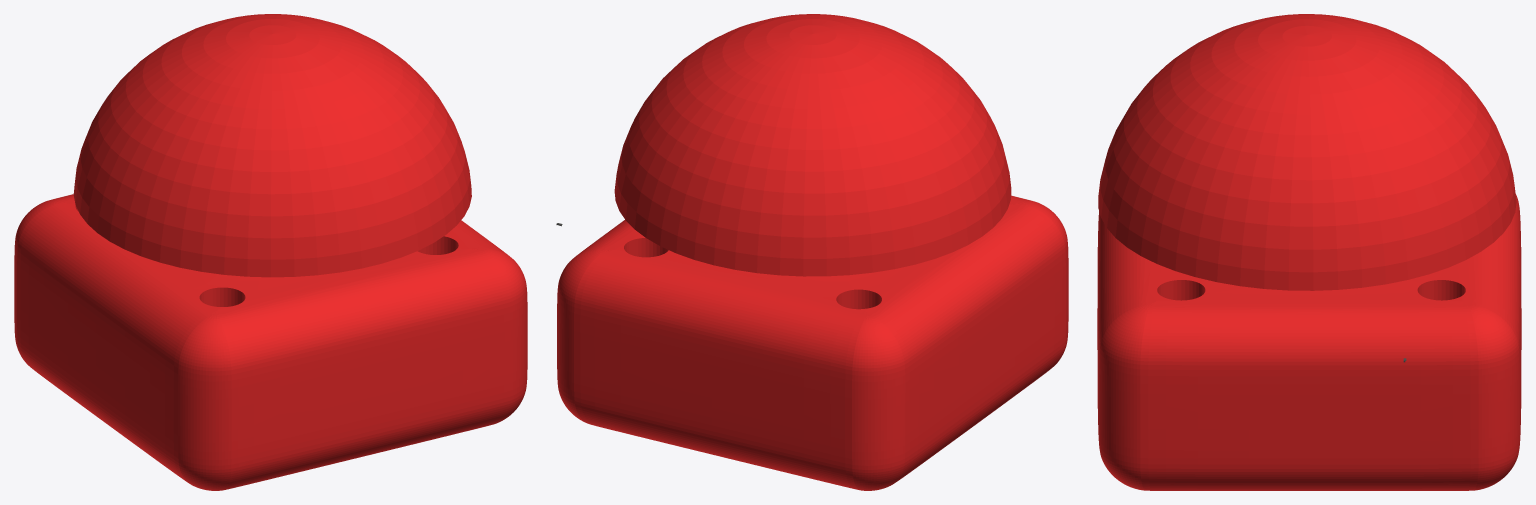
File: PushButton.dae
3 renders of one model, left to right at view 1: azimuth 30°, elevation 25°; view 2: azimuth 150°, elevation 25°; view 3: azimuth 270°, elevation 25°, orthographic. The views are drawn at different scales.
Parts seen in each view (by area): view 1: Button; view 2: Button; view 3: Button.
Part boxes in pixels (box(x1,y1,x2,y2)): Button: box(14, 14, 527, 490); Button: box(557, 14, 1068, 490); Button: box(1097, 14, 1521, 490).
Bounding box in the file's own units: 0.0883 × 0.08 × 0.08.
